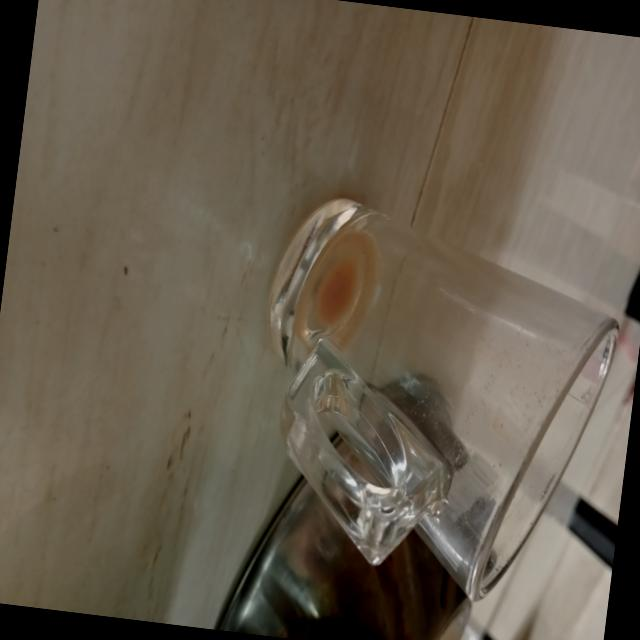glass-VX4N: (266, 191, 636, 622)
